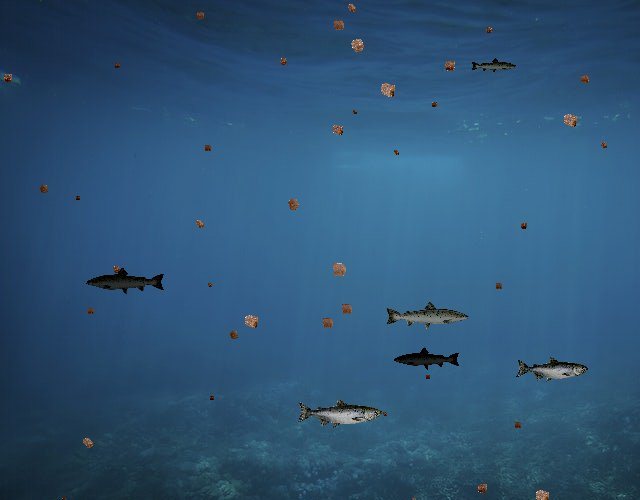Fish: (384, 300, 470, 331), (296, 398, 382, 429), (86, 266, 167, 295), (515, 356, 588, 383), (394, 346, 462, 370), (471, 57, 518, 74)
Pellet: (76, 432, 98, 454), (575, 69, 594, 88), (342, 0, 361, 18), (516, 219, 530, 233), (428, 98, 441, 111), (111, 59, 123, 71), (204, 279, 214, 290)
